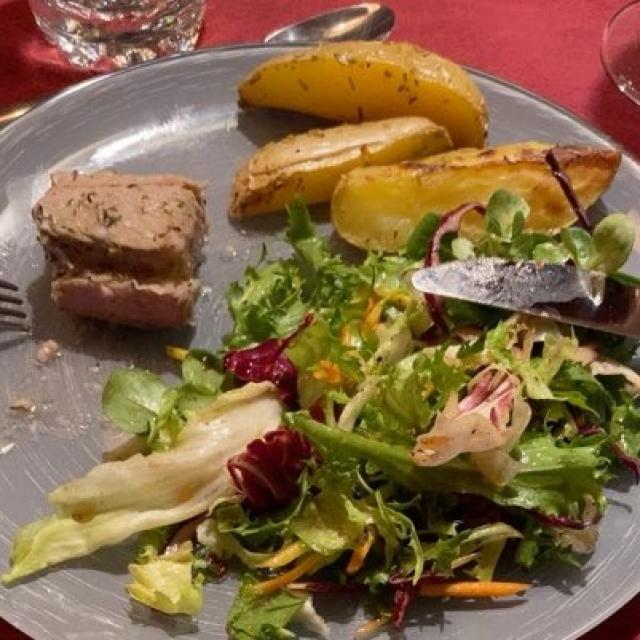potatoes: (231, 38, 618, 264)
salad: (26, 221, 633, 634)
